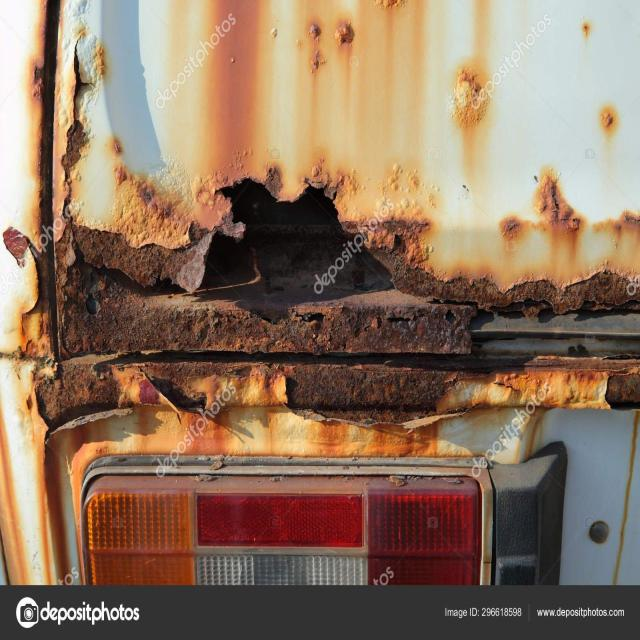Uniform Corrosion: (0, 0, 640, 430)
